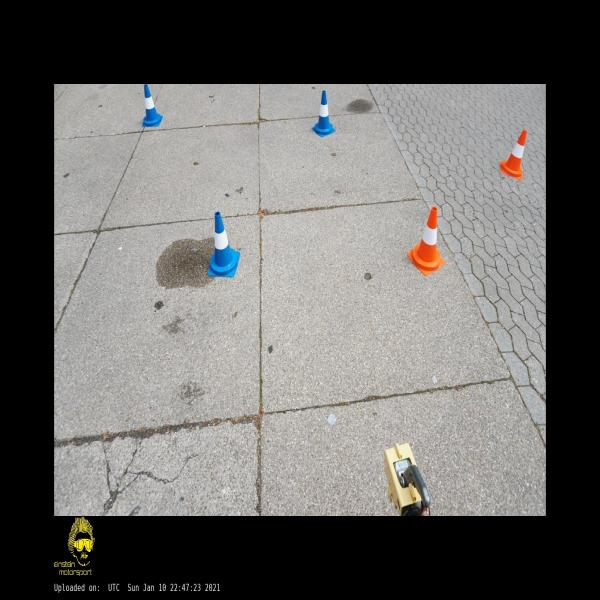blue_cone: (208, 212, 240, 277), (312, 91, 335, 136), (142, 84, 163, 127)
orange_cone: (407, 207, 445, 275), (500, 130, 527, 180)
